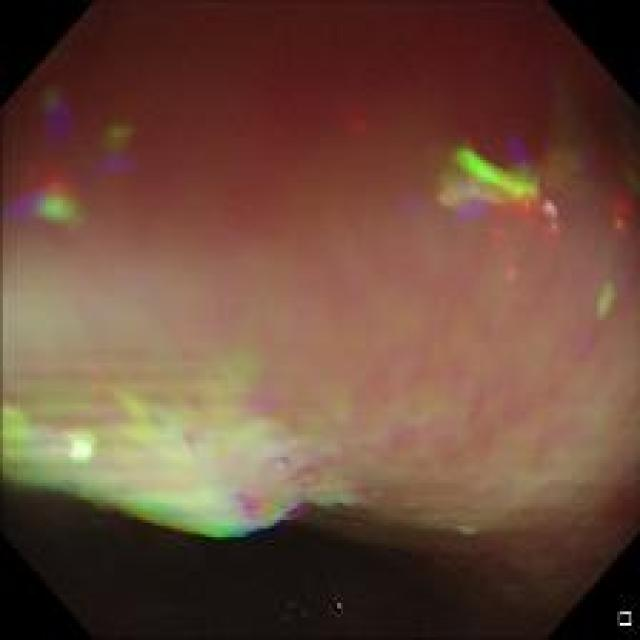blur: (2, 1, 634, 552)
color misalignment: (8, 341, 410, 546), (8, 78, 140, 238), (436, 121, 568, 245), (605, 156, 632, 341), (571, 270, 619, 356)
contrast: (14, 475, 551, 635)
